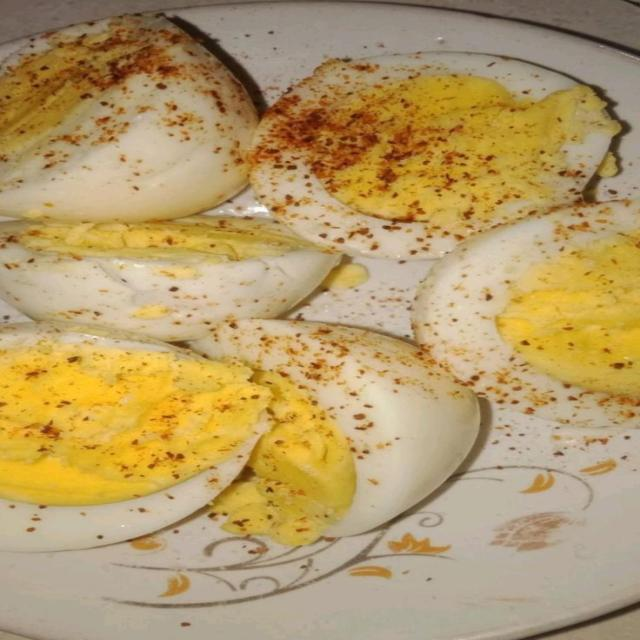eggs: (11, 16, 640, 624)
